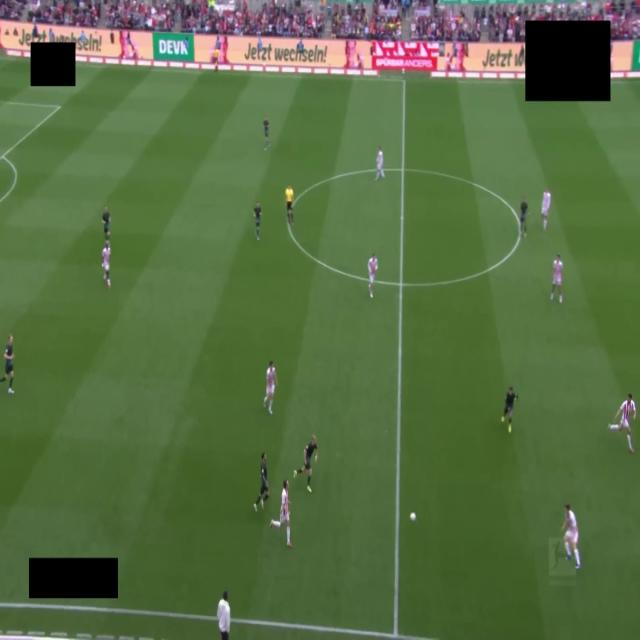ball: (409, 513, 416, 522)
player: (609, 394, 636, 453), (270, 480, 292, 548), (294, 436, 317, 492), (561, 504, 580, 568), (254, 453, 268, 511), (0, 335, 13, 394), (264, 361, 277, 415), (502, 387, 517, 432), (551, 255, 563, 303), (101, 241, 111, 289), (368, 253, 377, 297), (542, 190, 550, 230), (520, 198, 528, 238), (102, 206, 110, 241), (376, 147, 384, 180), (254, 202, 261, 239), (264, 119, 269, 150)
referee: (285, 185, 293, 225)
